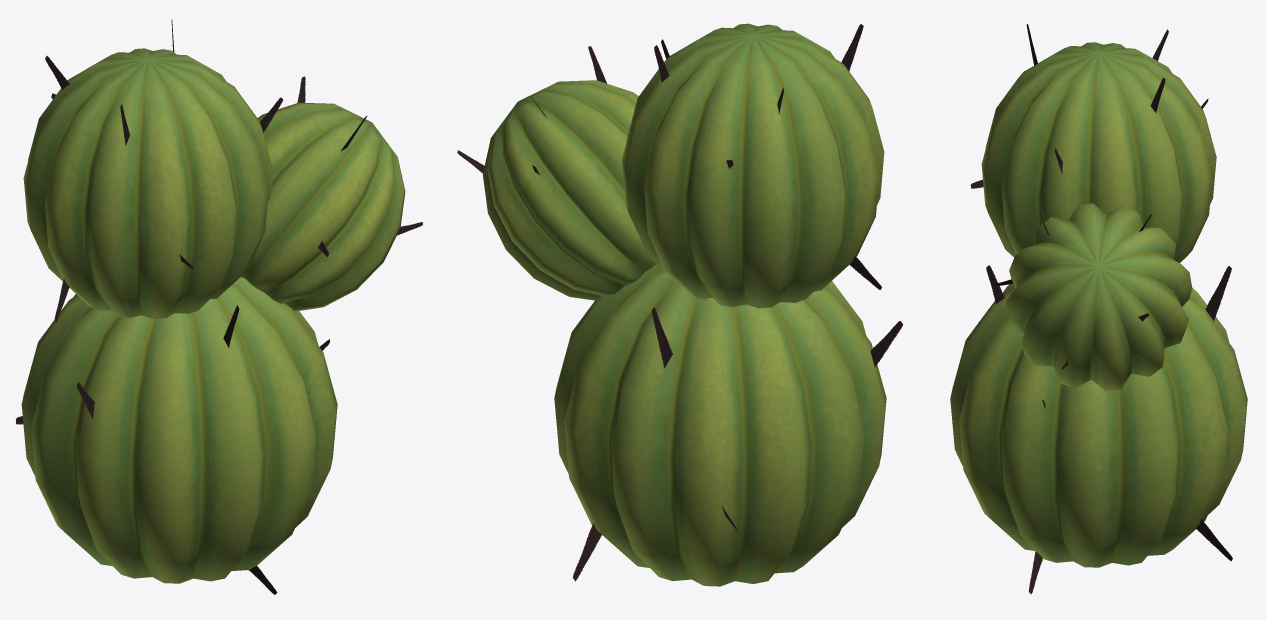
The model's file is acactus3.fbx.
3 views of the same model, side by side, from view 1: azimuth 30°, elevation 25°; view 2: azimuth 150°, elevation 25°; view 3: azimuth 270°, elevation 25° (orthographic). The views are drawn at different scales.
Parts seen in each view (by area): view 1: cactus1_low008, Object021; view 2: cactus1_low008, Object021; view 3: cactus1_low008, Object021.
Boxes of the visible parts, box(x1,y1,x2,y2) form: cactus1_low008: box(21, 48, 405, 583); Object021: box(16, 19, 422, 594); cactus1_low008: box(482, 23, 886, 586); Object021: box(457, 24, 903, 581); cactus1_low008: box(950, 42, 1247, 567); Object021: box(970, 24, 1232, 594).
Bounding box in the file's own units: 204 × 150 × 288.
